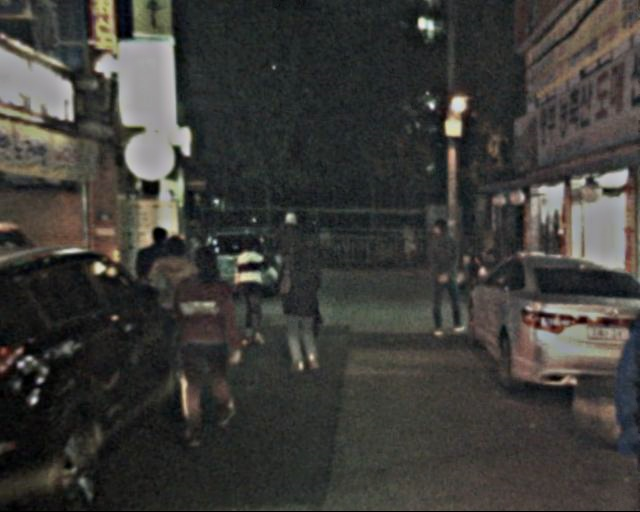person: (166, 240, 246, 442), (274, 231, 331, 378), (149, 234, 202, 367), (426, 213, 473, 343), (133, 224, 183, 345), (227, 235, 277, 345), (268, 206, 310, 310)
